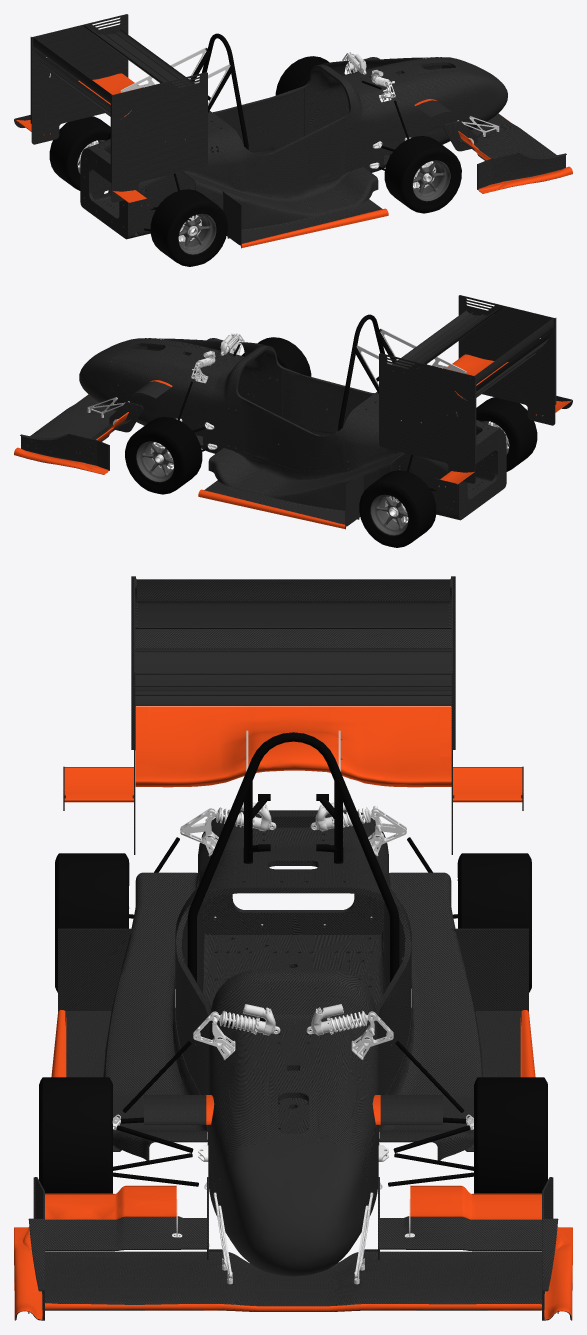
The model's file is et-18-aero-package.glb.
The picture shows the model from 3 angles, top to bottom: view 1: azimuth 30°, elevation 25°; view 2: azimuth 150°, elevation 25°; view 3: azimuth 270°, elevation 25°; orthographic projection. The views are drawn at different scales.
Visible parts, largest first — view 1: L18_CH_Monocoque_forato_26_05_2026, L18_AE_Endplate.001, L18_AE_Undertray_v10, L18_AE_Endplate, Hoosier 16x7.002, Hoosier 16x7.003, L18_AE_FW_Endplate.001, Hoosier 16x7.5, L18_AE_Main_FW, L18_AE_NoseConePrototype_RichVersion, L18_AE_RW_UpperFlap1, L18_Main Hoop_Default<A macchina> (+10 smaller); view 2: L18_CH_Monocoque_forato_26_05_2026, L18_AE_Endplate, L18_AE_Undertray_v10, L18_AE_Endplate.001, Hoosier 16x7.5, Hoosier 16x7.001, L18_AE_FW_Endplate, Hoosier 16x7.002, L18_AE_Main_FW, L18_AE_RW_UpperFlap1, L18_AE_NoseConePrototype_RichVersion, L18_Main Hoop_Default<A macchina> (+10 smaller); view 3: L18_CH_Monocoque_forato_26_05_2026, L18_AE_Undertray_v10, L18_AE_Main_FW, L18_AE_RW_Main, L18_AE_NoseConePrototype_RichVersion, L18_AE_RW_UpperFlap1, L18_AE_flap_1, Hoosier 16x7.001, Hoosier 16x7.003, L18_AE_RW_Flap2, L18_AE_flap2, L18_Main Hoop_Default<A macchina> (+11 smaller).
Part boxes in pixels (left/top/right/bottom): L18_CH_Monocoque_forato_26_05_2026: left=80, top=57, right=477, bottom=239; L18_AE_Endplate.001: left=111, top=72, right=207, bottom=202; L18_AE_Undertray_v10: left=182, top=167, right=388, bottom=248; L18_AE_Endplate: left=31, top=14, right=128, bottom=144; Hoosier 16x7.002: left=150, top=189, right=227, bottom=266; Hoosier 16x7.003: left=384, top=136, right=461, bottom=213; L18_AE_FW_Endplate.001: left=477, top=152, right=572, bottom=193; Hoosier 16x7.5: left=49, top=116, right=110, bottom=190; L18_AE_Main_FW: left=471, top=113, right=556, bottom=157; L18_AE_NoseConePrototype_RichVersion: left=447, top=57, right=507, bottom=127; L18_AE_RW_UpperFlap1: left=92, top=29, right=194, bottom=89; L18_Main Hoop_Default<A macchina>: left=191, top=33, right=248, bottom=149; L18_CH_Monocoque_forato_26_05_2026: left=109, top=338, right=506, bottom=520; L18_AE_Endplate: left=379, top=353, right=475, bottom=483; L18_AE_Undertray_v10: left=198, top=448, right=404, bottom=529; L18_AE_Endplate.001: left=458, top=295, right=555, bottom=425; Hoosier 16x7.5: left=359, top=470, right=436, bottom=547; Hoosier 16x7.001: left=125, top=417, right=202, bottom=494; L18_AE_FW_Endplate: left=14, top=433, right=109, bottom=474; Hoosier 16x7.002: left=476, top=397, right=537, bottom=471; L18_AE_Main_FW: left=30, top=394, right=115, bottom=438; L18_AE_RW_UpperFlap1: left=392, top=310, right=495, bottom=370; L18_AE_NoseConePrototype_RichVersion: left=79, top=338, right=139, bottom=408; L18_Main Hoop_Default<A macchina>: left=338, top=314, right=395, bottom=430; L18_CH_Monocoque_forato_26_05_2026: left=175, top=810, right=411, bottom=1235; L18_AE_Undertray_v10: left=51, top=872, right=535, bottom=1160; L18_AE_Main_FW: left=45, top=1249, right=541, bottom=1311; L18_AE_RW_Main: left=135, top=706, right=451, bottom=787; L18_AE_NoseConePrototype_RichVersion: left=220, top=1134, right=366, bottom=1276; L18_AE_RW_UpperFlap1: left=135, top=651, right=451, bottom=691; L18_AE_flap_1: left=45, top=1216, right=541, bottom=1251; Hoosier 16x7.001: left=474, top=1077, right=547, bottom=1193; Hoosier 16x7.003: left=39, top=1077, right=112, bottom=1193; L18_AE_RW_Flap2: left=136, top=602, right=450, bottom=627; L18_AE_flap2: left=45, top=1185, right=541, bottom=1219; L18_Main Hoop_Default<A macchina>: left=187, top=732, right=399, bottom=982.
Size of the model in its own units: 2.87 by 1.09 by 1.61.
11 materials, 1 textured.
